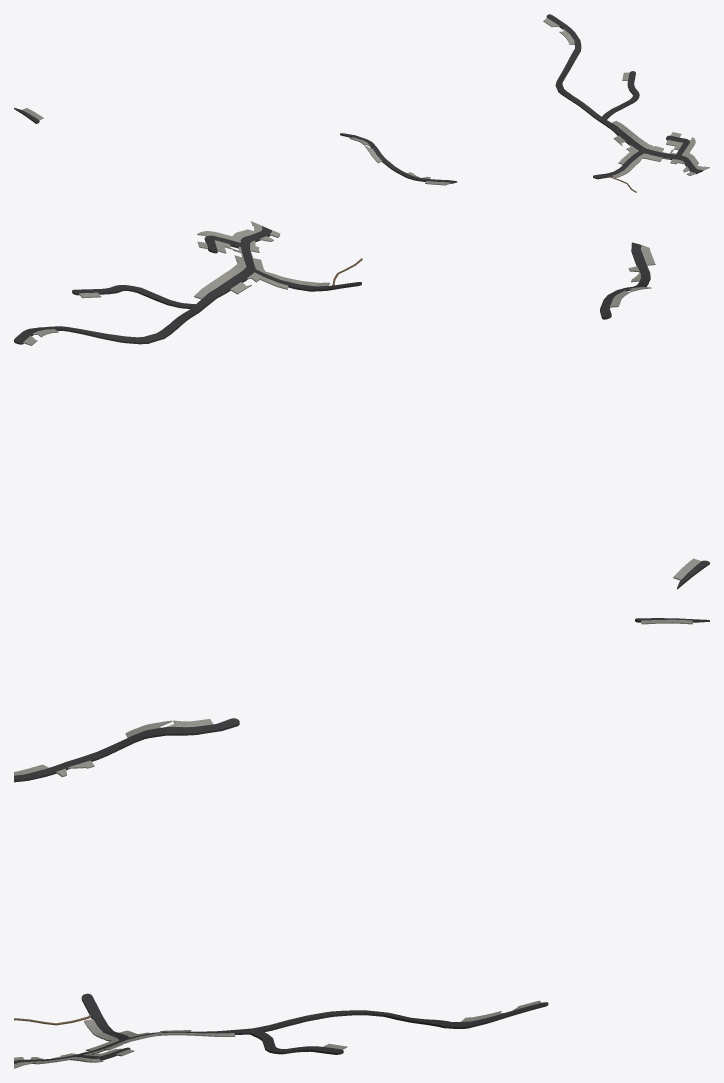
3 renders of one model, top to bottom at view 1: azimuth 30°, elevation 25°; view 2: azimuth 150°, elevation 25°; view 3: azimuth 270°, elevation 25°, orthographic. The views are drawn at different scales.
Bounding box in the file's own units: 567 × 74.7 × 398.
